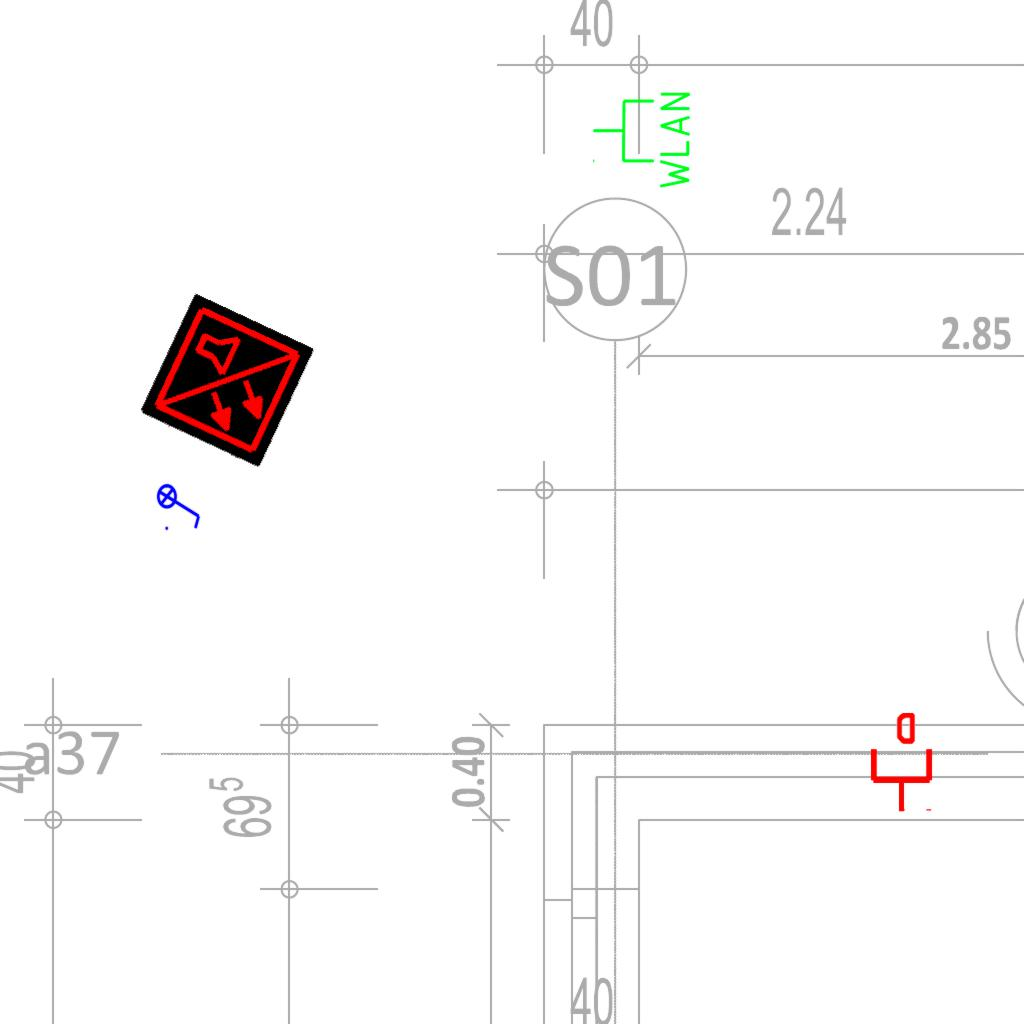Ausschalter_beleuchtet: (156, 477, 204, 533)
Datenanschluss_einfach: (867, 713, 936, 813)
OKW_Multisensormelder_(Kombination_optischer_Rauch-Kahlenmonoxid_Waerme-Melder): (139, 293, 315, 469)
WLAN: (590, 88, 694, 193)
